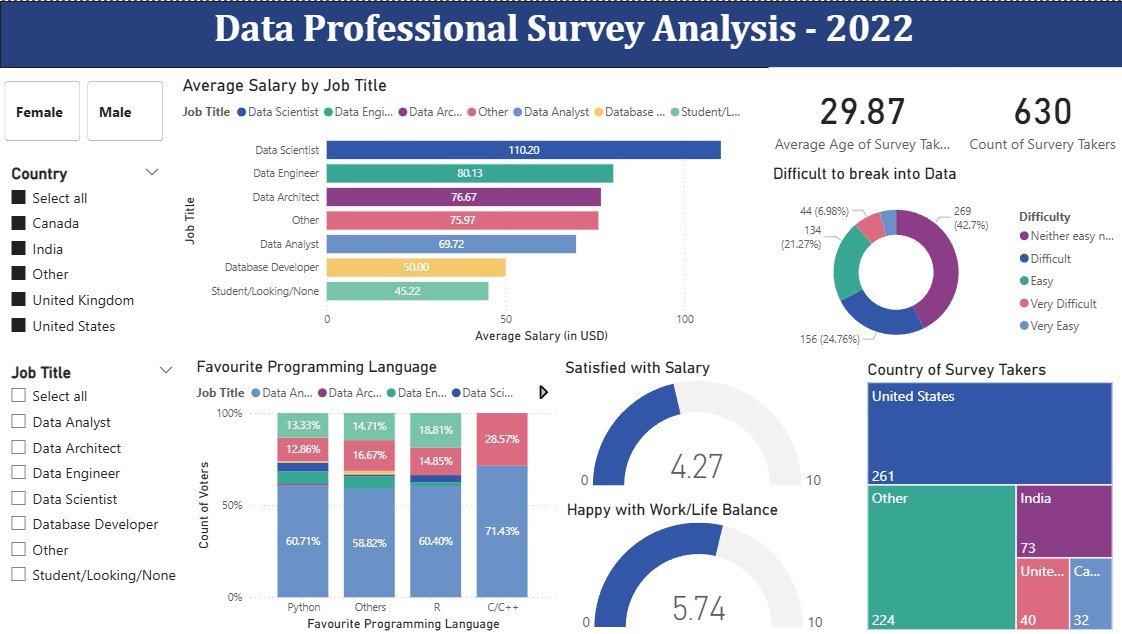

Layout of this report page (visuals, bound fields, positions):
{"tool":"powerbi","page":{"name":"Page 1","canvas":[1280,720],"ordinal":0},"visuals":[{"type":"textbox","box":[0,0,1279.7,75.1],"z":0},{"type":"card","fields":{"Values":["Count(Data Professional Survey.Unique ID)"]},"box":[1083.9,75,196.4,110.7],"z":1000},{"type":"barChart","title":"Average Salary by Job Title","fields":{"Category":["Data Professional Survey.Q1 - Which Title Best Fits your Current Role?.1"],"Series":["Data Professional Survey.Q1 - Which Title Best Fits your Current Role?.1"],"Y":["Avg(Data Professional Survey.Q3 - Current Yearly Salary (in USD) - Copy.2)"]},"box":[202,84,670.2,309.2],"z":2000},{"type":"hundredPercentStackedColumnChart","title":"Favourite Programming Language","fields":{"Series":["Data Professional Survey.Q1 - Which Title Best Fits your Current Role?.1"],"Y":["CountNonNull(Data Professional Survey.Q1 - Which Title Best Fits your Current Role?.1)"],"Category":["Data Professional Survey.Q5 - Favorite Programming Language.1 (groups)"]},"box":[217.9,403.6,417.9,316.1],"z":3000},{"type":"gauge","title":"Happy with Work/Life Balance","fields":{"MinValue":["Min(Data Professional Survey.Q6 - How Happy are you in your Current Position with the following? (Work/Life Balance))"],"MaxValue":["Max(Data Professional Survey.Q6 - How Happy are you in your Current Position with the following? (Work/Life Balance))"],"Y":["Avg(Data Professional Survey.Q6 - How Happy are you in your Current Position with the following? (Work/Life Balance))"]},"box":[637.5,566.1,317.8,153.6],"z":4000},{"type":"gauge","title":"Satisfied with Salary","fields":{"Y":["Avg(Data Professional Survey.Q6 - How Happy are you in your Current Position with the following? (Salary))"],"MinValue":["Min(Data Professional Survey.Q6 - How Happy are you in your Current Position with the following? (Salary))1"],"MaxValue":["Max(Data Professional Survey.Q6 - How Happy are you in your Current Position with the following? (Salary))2"]},"box":[635.7,405.4,317.8,153.6],"z":5000},{"type":"treemap","title":"Country of Survey Takers","fields":{"Group":["Data Professional Survey.Q11 - Which Country do you live in?.1"],"Values":["CountNonNull(Data Professional Survey.Q1 - Which Title Best Fits your Current Role?.1)"]},"box":[978.6,407.1,287.5,310.7],"z":6000},{"type":"advancedSlicerVisual","fields":{"Values":["Data Professional Survey.Q9 - Male/Female?"]},"box":[0,85.7,191.1,78.6],"z":7000},{"type":"slicer","fields":{"Values":["Data Professional Survey.Q1 - Which Title Best Fits your Current Role?.1"]},"box":[0,405.4,208.9,292.9],"z":8000},{"type":"slicer","fields":{"Values":["Data Professional Survey.Q11 - Which Country do you live in?.1"]},"box":[0,180.4,192.9,212.5],"z":9000},{"type":"card","fields":{"Values":["Avg(Data Professional Survey.Q10 - Current Age)"]},"box":[871.4,75,212.5,110.7],"z":10000},{"type":"donutChart","title":"Difficult to break into Data","fields":{"Category":["Data Professional Survey.Q7 - How difficult was it for you to break into Data?"],"Y":["CountNonNull(Data Professional Survey.Q1 - Which Title Best Fits your Current Role?.1)"]},"box":[871.4,185.7,408.9,223.2],"z":11000}]}

Visuals, with their boxes in screenshot pixels (x1, y1, x2, y2), scaled from the page's 1280x720 canvas onto the 1122x634 screenshot:
textbox: x1=0 y1=0 x2=1121 y2=66
card - Count(Data Professional Survey.Unique ID): x1=950 y1=66 x2=1121 y2=164
"Average Salary by Job Title" barChart: x1=177 y1=74 x2=765 y2=346
"Favourite Programming Language" hundredPercentStackedColumnChart: x1=191 y1=355 x2=557 y2=633
"Happy with Work/Life Balance" gauge: x1=559 y1=498 x2=837 y2=633
"Satisfied with Salary" gauge: x1=557 y1=357 x2=836 y2=492
"Country of Survey Takers" treemap: x1=858 y1=358 x2=1110 y2=632
advancedSlicerVisual - Data Professional Survey.Q9 - Male/Female?: x1=0 y1=75 x2=168 y2=145
slicer - Data Professional Survey.Q1 - Which Title Best Fits your Current Role?.1: x1=0 y1=357 x2=183 y2=615
slicer - Data Professional Survey.Q11 - Which Country do you live in?.1: x1=0 y1=159 x2=169 y2=346
card - Avg(Data Professional Survey.Q10 - Current Age): x1=764 y1=66 x2=950 y2=164
"Difficult to break into Data" donutChart: x1=764 y1=164 x2=1121 y2=360
